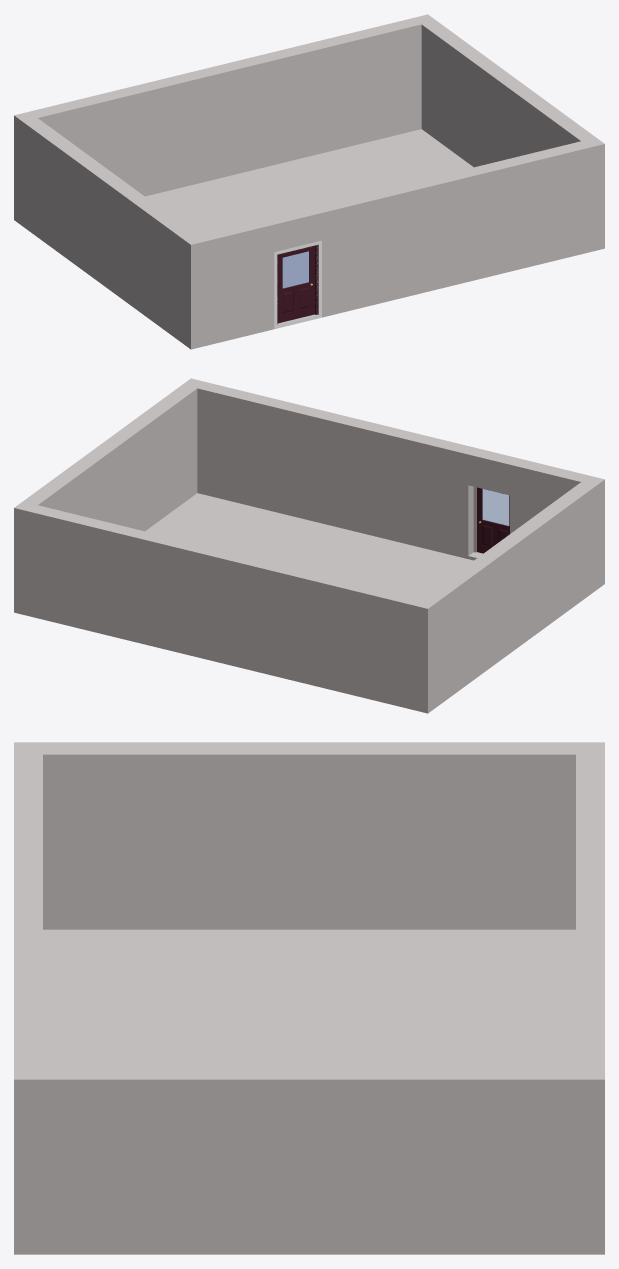
Rendered from murattest.dae.
The picture shows the model from 3 angles, top to bottom: view 1: azimuth 30°, elevation 25°; view 2: azimuth 150°, elevation 25°; view 3: azimuth 270°, elevation 25°; orthographic projection. The views are drawn at different scales.
Parts seen in each view (by area): view 1: SketchUp (×4), group_4, group_3; view 2: SketchUp (×4), group_4, group_3; view 3: SketchUp (×3).
Boxes of the visible parts, left/top/right/bottom form: SketchUp (×4): left=14, top=14, right=604, bottom=349; group_4: left=278, top=246, right=314, bottom=323; group_3: left=283, top=251, right=308, bottom=288; SketchUp (×4): left=14, top=378, right=604, bottom=713; group_4: left=476, top=487, right=509, bottom=553; group_3: left=482, top=489, right=508, bottom=525; SketchUp (×3): left=14, top=742, right=604, bottom=1254.
Bounding box in the file's own units: 176 × 130 × 42.52.
